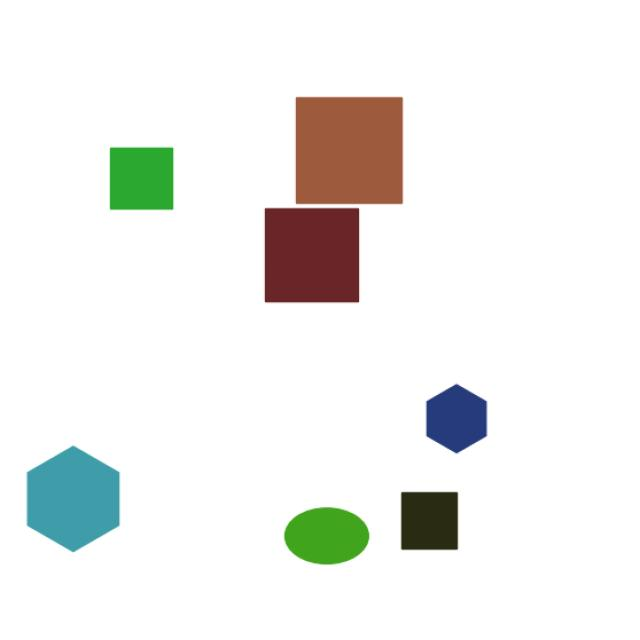Hexagon: (13, 431, 148, 568), (414, 371, 508, 466)
Oval: (267, 496, 381, 576)
square: (286, 78, 422, 220), (251, 199, 378, 315), (99, 137, 189, 230), (400, 459, 477, 567)
